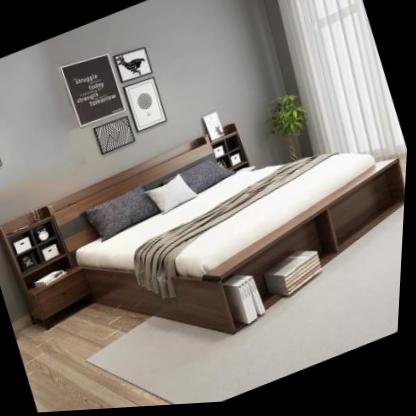Bed: (40, 69, 412, 395)
Carpet: (189, 208, 407, 406), (275, 0, 409, 166)
Frame: (60, 48, 129, 129), (124, 77, 170, 134), (96, 114, 141, 155), (114, 46, 155, 86), (0, 119, 6, 176)
Nightstand: (0, 200, 102, 339)
Wooden floor: (23, 341, 180, 413)
